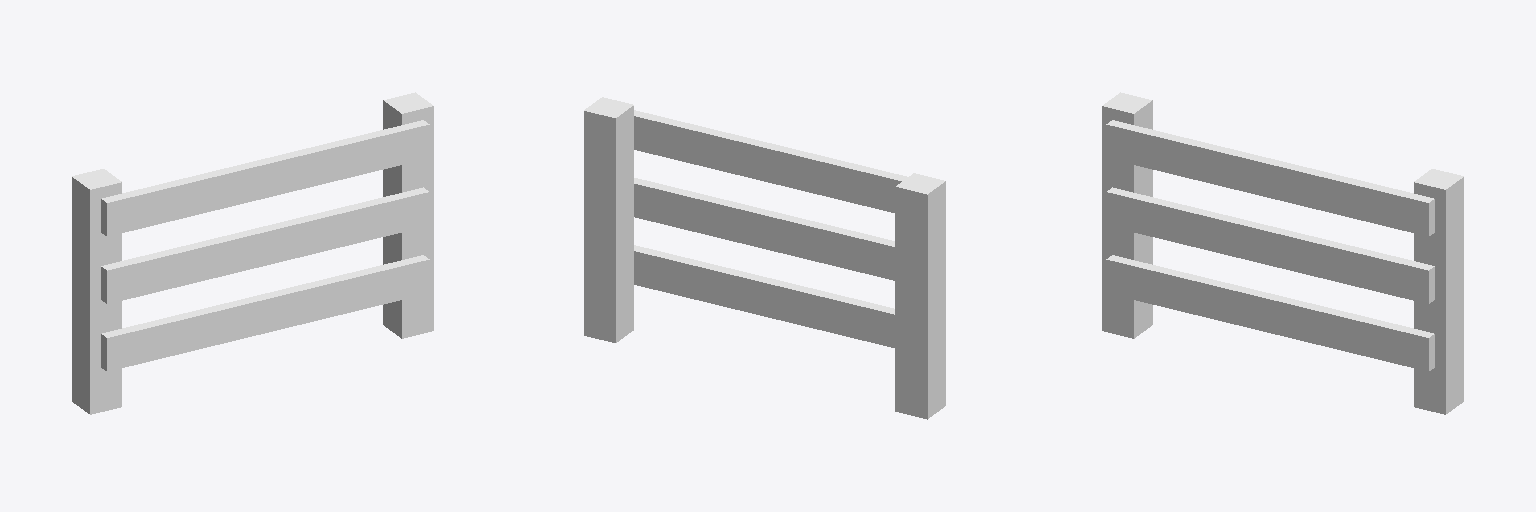
File: cerco01.obj
3 views of the same model, side by side, from view 1: azimuth 30°, elevation 25°; view 2: azimuth 150°, elevation 25°; view 3: azimuth 330°, elevation 25° (orthographic).
Visible parts, largest first — view 1: object 1; view 2: object 1; view 3: object 1.
Part boxes in pixels (x1,y1,x2,y2): object 1: (72, 92, 433, 414); object 1: (584, 97, 945, 419); object 1: (1102, 92, 1463, 414).
Bounding box in the file's own units: 3.2 × 2 × 0.4.